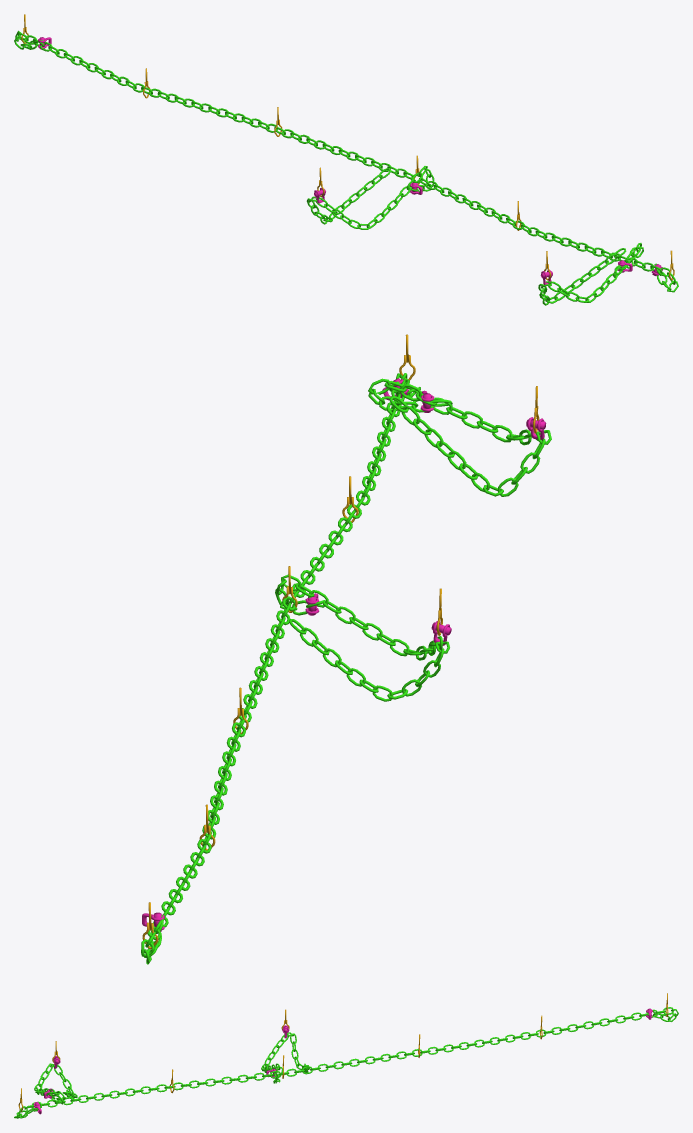
File: Face winch chains.fbx
The picture shows the model from 3 angles, top to bottom: view 1: azimuth 30°, elevation 25°; view 2: azimuth 150°, elevation 25°; view 3: azimuth 270°, elevation 25°; orthographic projection. The views are drawn at different scales.
Visible parts, largest first — view 1: Chain Links.026, Chain Links.007, Chain Links.014; view 2: Chain Links.026, Chain Links.014, Chain Links.007; view 3: Chain Links.026, Chain Links.007, Chain Links.014.
Boxes of the visible parts, left/top/right/bottom form: Chain Links.026: left=14, top=30, right=678, bottom=292; Chain Links.007: left=306, top=166, right=434, bottom=229; Chain Links.014: left=538, top=243, right=643, bottom=305; Chain Links.026: left=141, top=373, right=420, bottom=964; Chain Links.014: left=368, top=378, right=551, bottom=496; Chain Links.007: left=275, top=574, right=449, bottom=701; Chain Links.026: left=14, top=1007, right=678, bottom=1118; Chain Links.007: left=261, top=1032, right=310, bottom=1083; Chain Links.014: left=34, top=1063, right=77, bottom=1104.
Size of the model in its own units: 204 by 52.31 by 575.
